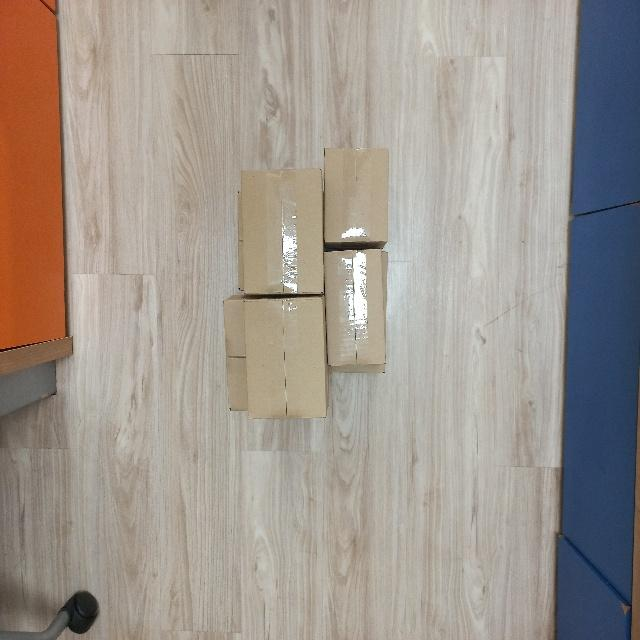box: (238, 296, 330, 423), (238, 168, 325, 296), (322, 250, 392, 369), (321, 146, 392, 248)
